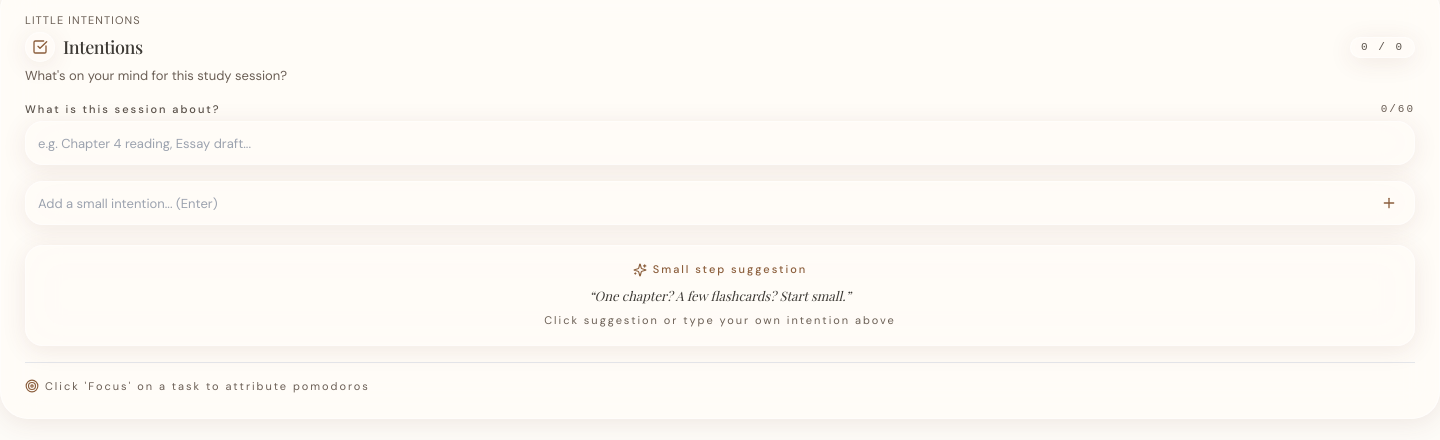
Scenario: IntentionsCard › adds a new intention task via text input and updates count pill
Type "Read chapter 3" into the field named "Add a task" at (720, 203), box [25, 181, 1415, 225]
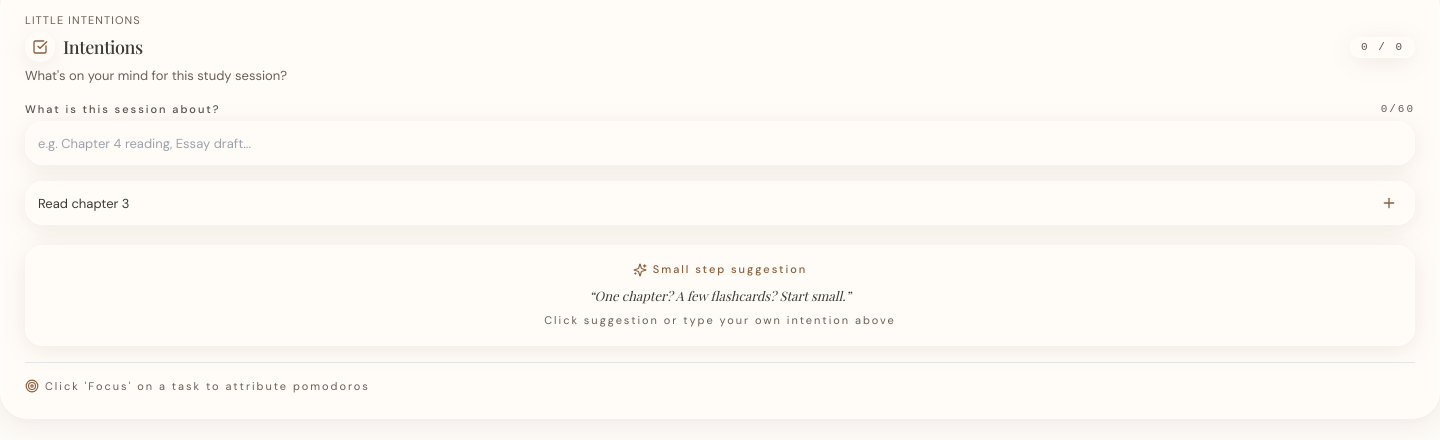
Click the button named "add intention" at (1389, 203), box [1367, 181, 1411, 225]
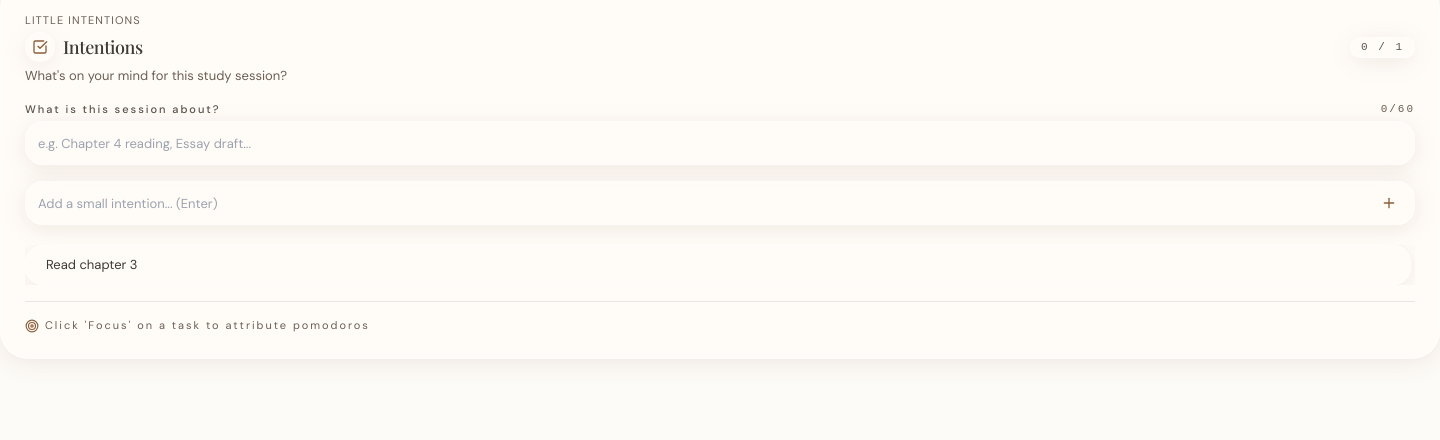
Now the text "Read chapter 3" is shown, box [46, 257, 138, 274]
Now the text "0 / 1" is shown, box [1350, 37, 1415, 58]
Now the field named "Add a task" is empty, box [25, 181, 1415, 225]
